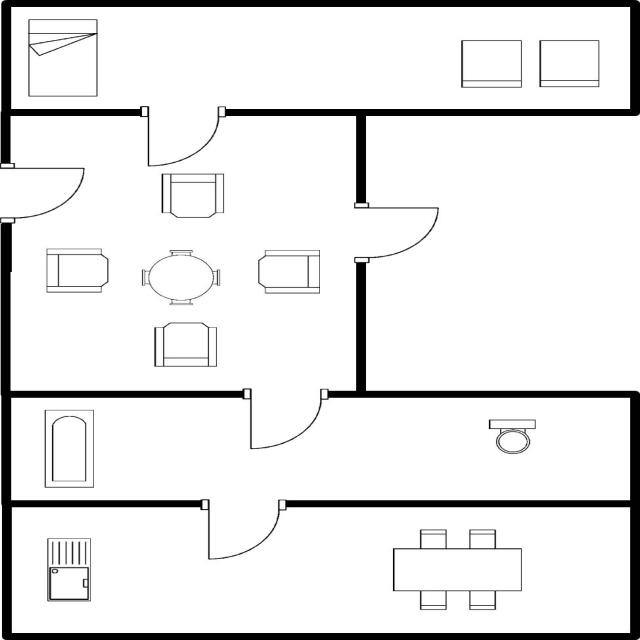armchair: (250, 244, 326, 296), (39, 245, 113, 297), (149, 318, 222, 370), (157, 170, 229, 222)
bed: (24, 15, 102, 101)
dining_table: (387, 520, 528, 614)
large_sink: (483, 414, 541, 458)
round_table: (135, 245, 224, 308)
sink: (40, 532, 97, 606)
small_sofa: (533, 35, 604, 92), (455, 37, 526, 92)
tub: (38, 406, 100, 491)
